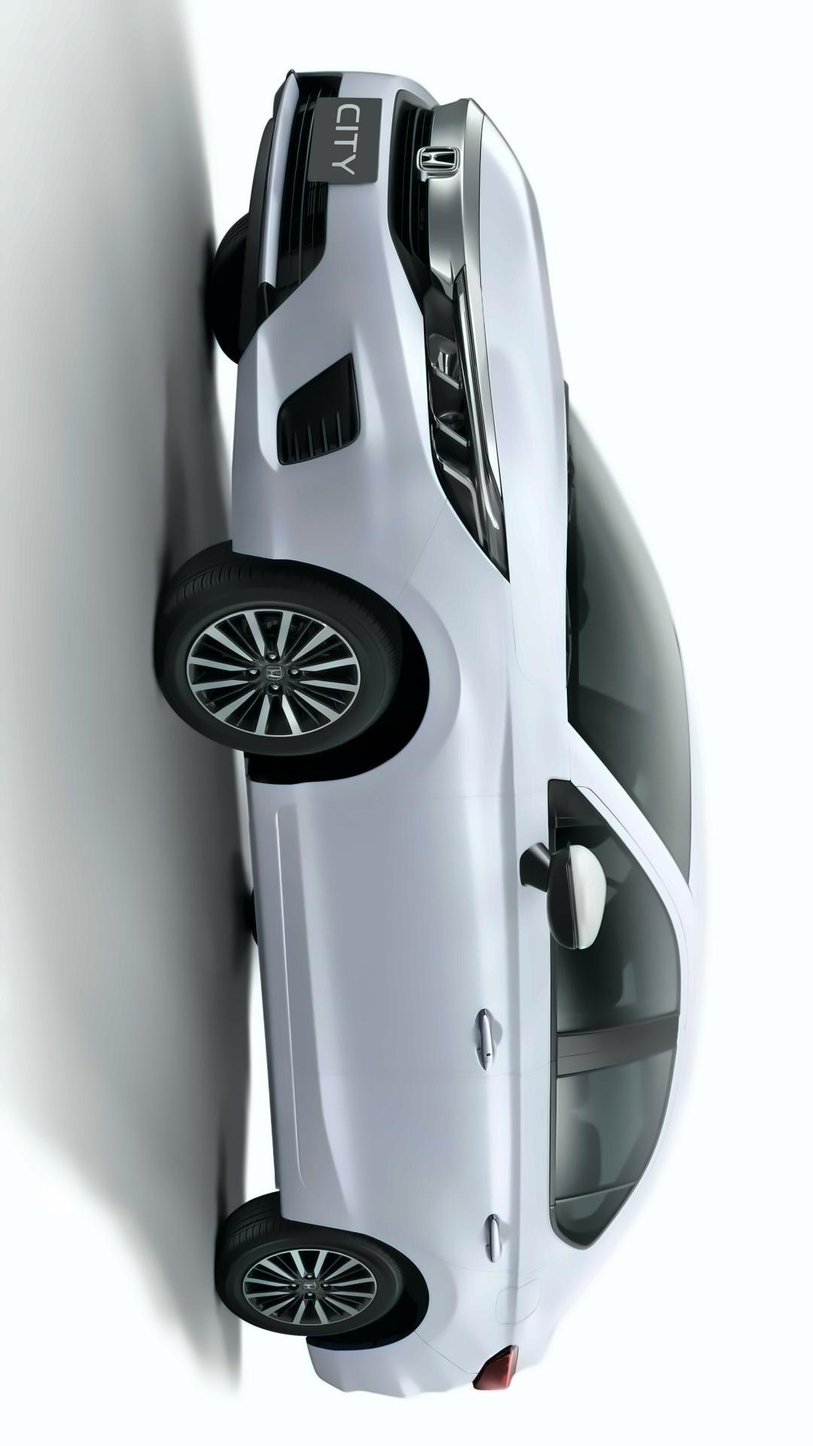Car hood: (459, 93, 580, 709)
Fender - -F-L-: (231, 560, 589, 836)
Fender - -R-L-: (228, 1187, 687, 1347)
Front bumper: (191, 45, 426, 593)
Headlight - -L-: (419, 271, 511, 582)
Passenger-s door - -F-L-: (231, 726, 712, 1093)
Passenger-s door - -R-L-: (210, 1009, 761, 1269)
Rear bumper: (299, 1313, 480, 1403)
Rear light - -L-: (462, 1343, 525, 1396)
Side bumper - -L-: (231, 751, 362, 1235)
Side mirror - -L-: (515, 821, 609, 959)
